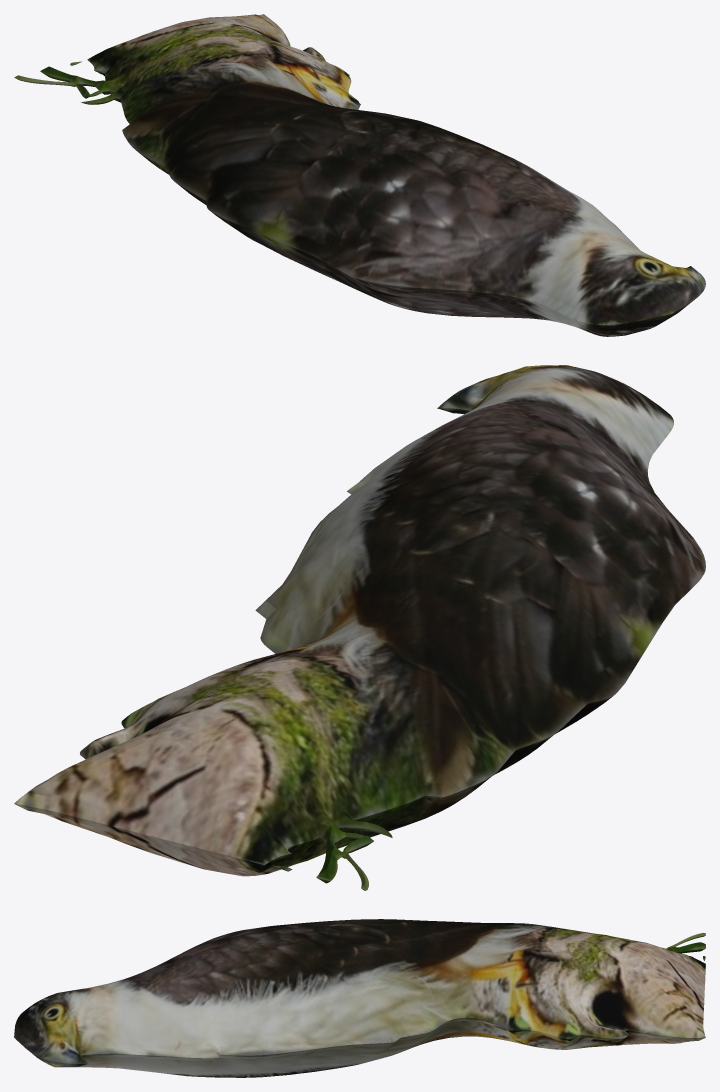
Rendered from Accipiter-bicolor1.gltf.
3 views of the same model, one above another, from view 1: azimuth 30°, elevation 25°; view 2: azimuth 150°, elevation 25°; view 3: azimuth 270°, elevation 25° (orthographic). The views are drawn at different scales.
Parts seen in each view (by area): view 1: node1; view 2: node1; view 3: node1.
Part boxes in pixels (bbox=[...]): node1: bbox=[14, 14, 705, 336]; node1: bbox=[14, 365, 705, 890]; node1: bbox=[14, 919, 705, 1077].
Bounding box in the file's own units: 1 × 0.4629 × 2.24.
1 material, 1 textured.
